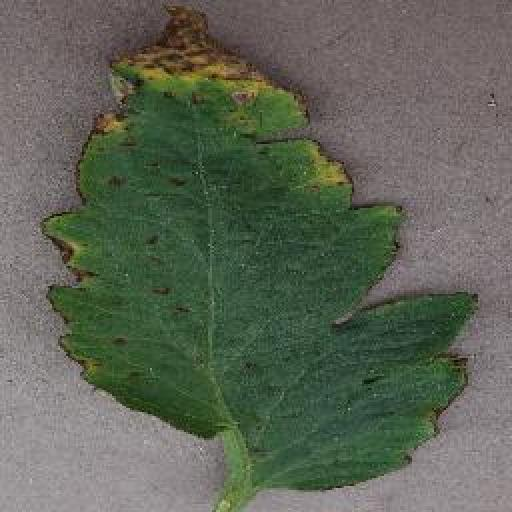Bacterial Spot: (32, 1, 484, 499)
